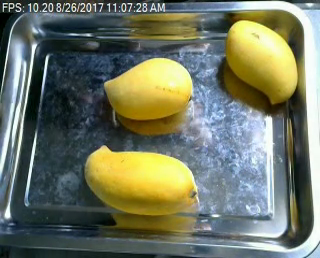Mango: (82, 141, 203, 222), (223, 14, 301, 107), (101, 53, 195, 123)
